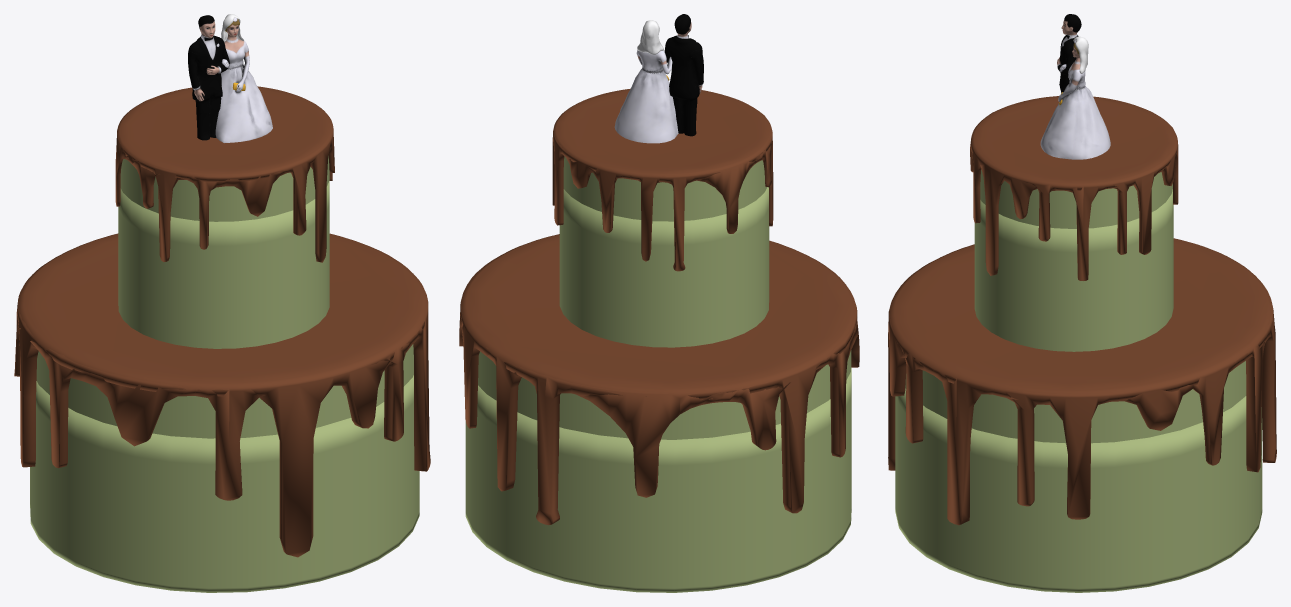
Rendered from 2-tier-pistage-ganache-bridegroom.glb.
The picture shows the model from 3 angles, left to right: view 1: azimuth 30°, elevation 25°; view 2: azimuth 150°, elevation 25°; view 3: azimuth 270°, elevation 25°; orthographic projection. The views are drawn at different scales.
Visible parts, largest first — view 1: Cylinder.023, tHE ICING.004, Cylinder.013, tHE ICING.003, 13501_Cake_Topper_Bride_Groom_v1_L1.003; view 2: Cylinder.023, tHE ICING.004, Cylinder.013, tHE ICING.003, 13501_Cake_Topper_Bride_Groom_v1_L1.003; view 3: Cylinder.023, tHE ICING.004, Cylinder.013, tHE ICING.003, 13501_Cake_Topper_Bride_Groom_v1_L1.003.
Boxes of the visible parts, x1,y1,x2,y2 form: Cylinder.023: (30, 344, 419, 592); tHE ICING.004: (14, 233, 430, 557); Cylinder.013: (118, 156, 329, 348); tHE ICING.003: (115, 86, 334, 262); 13501_Cake_Topper_Bride_Groom_v1_L1.003: (188, 14, 272, 142); Cylinder.023: (465, 350, 851, 592); tHE ICING.004: (459, 234, 859, 525); Cylinder.013: (559, 156, 769, 347); tHE ICING.003: (552, 88, 773, 271); 13501_Cake_Topper_Bride_Groom_v1_L1.003: (614, 14, 703, 143); Cylinder.023: (895, 361, 1262, 592); tHE ICING.004: (888, 238, 1276, 525); Cylinder.013: (974, 169, 1173, 351); tHE ICING.003: (970, 96, 1178, 280); 13501_Cake_Topper_Bride_Groom_v1_L1.003: (1040, 14, 1110, 159).
Bounding box in the file's own units: 3.53 × 4.79 × 3.46.
3 materials, 1 textured.
